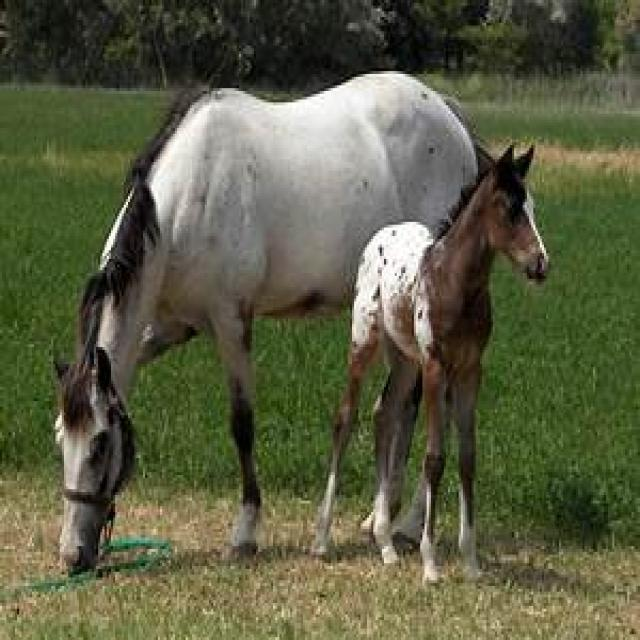horse: (60, 72, 477, 569), (314, 144, 550, 585)
